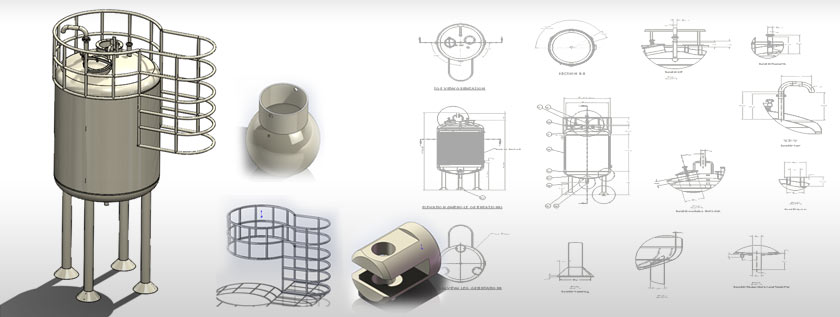nozzle: (545, 225, 600, 289)
